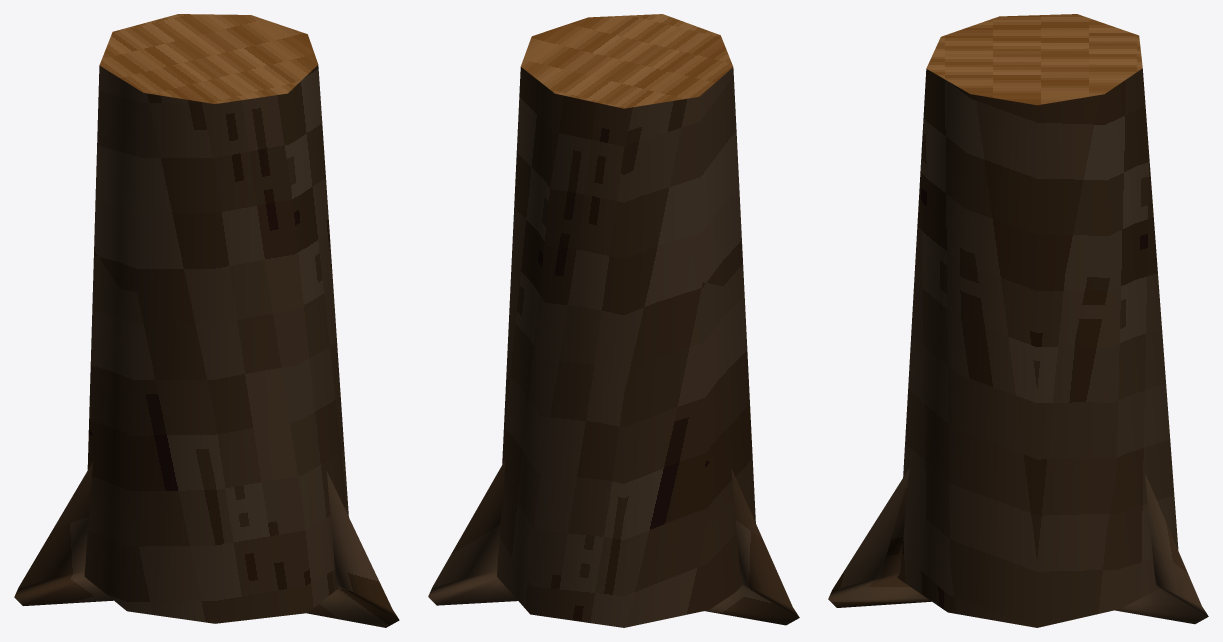
The model's file is stump04_update-lod1.glb.
3 views of the same model, side by side, from view 1: azimuth 30°, elevation 25°; view 2: azimuth 150°, elevation 25°; view 3: azimuth 270°, elevation 25° (orthographic).
Visible parts, largest first — view 1: TZ_stump_Batch_00_LOD1, TZ_stump_Batch_01_LOD1; view 2: TZ_stump_Batch_00_LOD1, TZ_stump_Batch_01_LOD1; view 3: TZ_stump_Batch_00_LOD1, TZ_stump_Batch_01_LOD1.
Boxes of the visible parts, box(x1,y1,x2,y2) form: TZ_stump_Batch_00_LOD1: box(14, 65, 399, 627); TZ_stump_Batch_01_LOD1: box(99, 14, 318, 103); TZ_stump_Batch_00_LOD1: box(428, 67, 799, 627); TZ_stump_Batch_01_LOD1: box(521, 14, 733, 108); TZ_stump_Batch_00_LOD1: box(828, 68, 1208, 627); TZ_stump_Batch_01_LOD1: box(926, 14, 1142, 105).
Size of the model in its own units: 0.5199 by 0.82 by 0.5582.
Materials: 2 (2 with a texture image).
